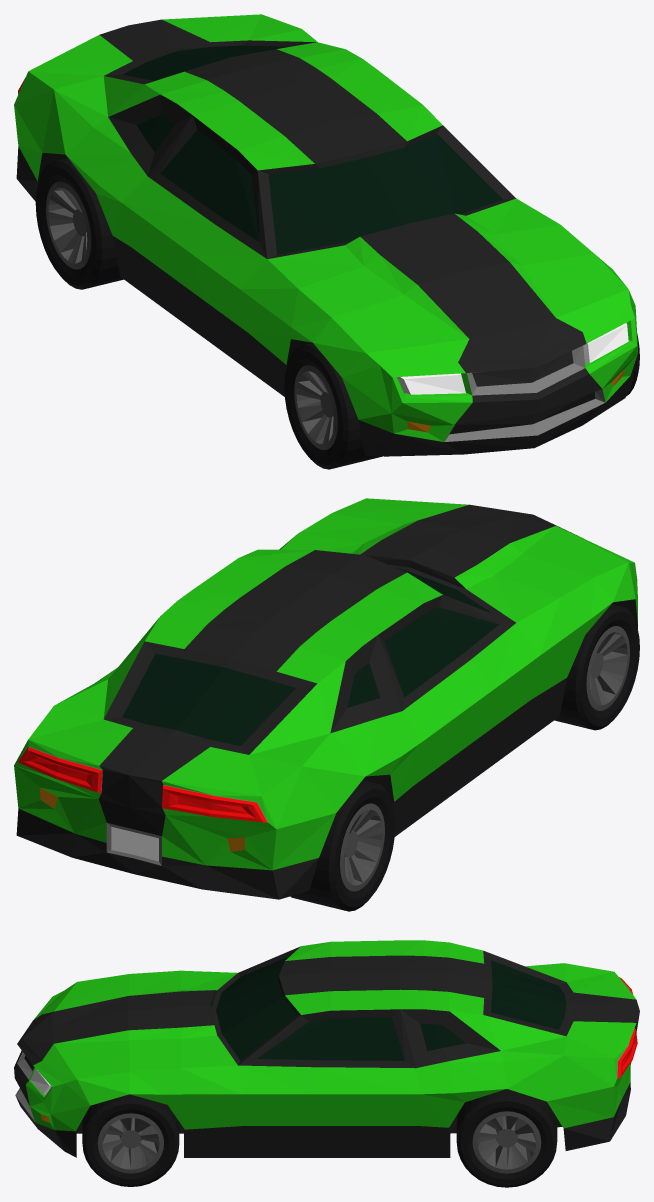
Rendered from car_2.obj.
The picture shows the model from 3 angles, top to bottom: view 1: azimuth 30°, elevation 25°; view 2: azimuth 150°, elevation 25°; view 3: azimuth 270°, elevation 25°; orthographic projection. The views are drawn at different scales.
Visible parts, largest first — view 1: CarBody, WRR, WFR; view 2: CarBody, WRR, WFR, TailLight; view 3: CarBody, WRL, WFL, TailLight.
Boxes of the visible parts, x1,y1,x2,y2 form: CarBody: [14, 14, 637, 456]; WRR: [35, 158, 123, 289]; WFR: [284, 343, 382, 469]; CarBody: [14, 498, 637, 899]; WRR: [290, 780, 395, 911]; WFR: [554, 604, 639, 730]; TailLight: [18, 747, 267, 822]; CarBody: [14, 940, 639, 1157]; WRL: [456, 1089, 557, 1187]; WFL: [82, 1094, 179, 1186]; TailLight: [617, 977, 637, 1078].
Bounding box in the file's own units: 3.59 × 2.42 × 8.45.
